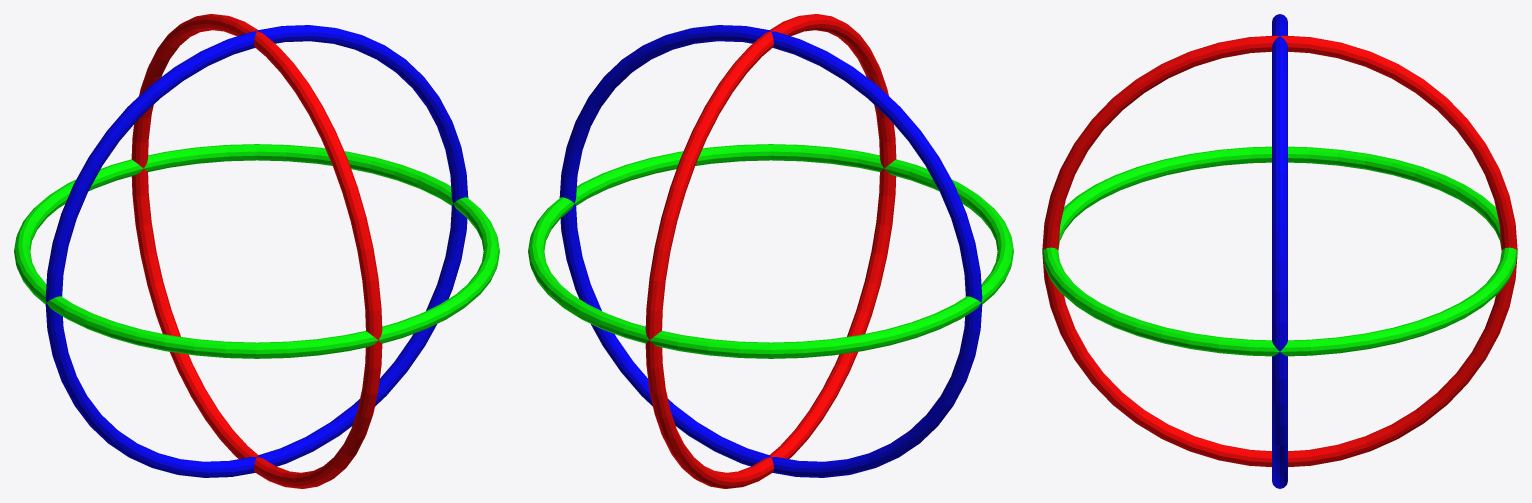
The model's file is gizmo_rot.glb.
3 views of the same model, side by side, from view 1: azimuth 30°, elevation 25°; view 2: azimuth 150°, elevation 25°; view 3: azimuth 270°, elevation 25° (orthographic). The views are drawn at different scales.
Visible parts, largest first — view 1: z rot, x rot, y rot; view 2: z rot, x rot, y rot; view 3: x rot, y rot, z rot.
Part boxes in pixels (box(x1,y1,x2,y2)): z rot: box(45, 25, 468, 477); x rot: box(131, 14, 382, 488); y rot: box(14, 144, 499, 358); z rot: box(559, 25, 982, 477); x rot: box(645, 14, 896, 488); y rot: box(528, 144, 1013, 358); x rot: box(1042, 35, 1517, 467); y rot: box(1042, 146, 1517, 356); z rot: box(1272, 14, 1287, 488).
Bounding box in the file's own units: 2.07 × 2.07 × 2.07.
